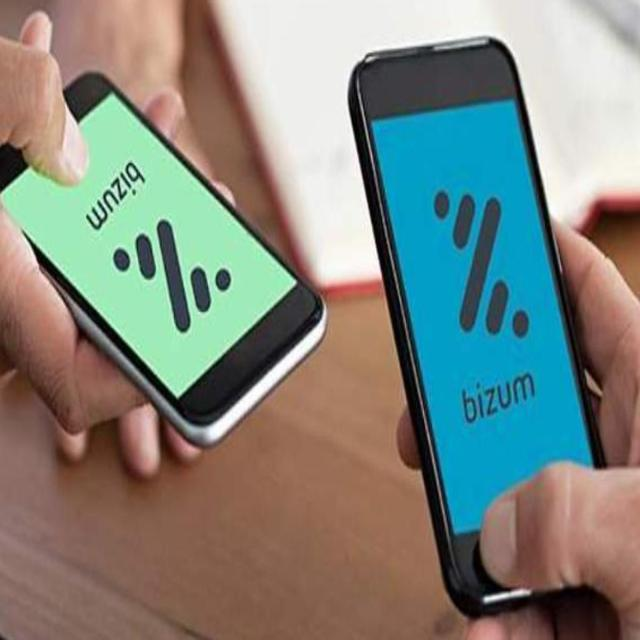bizum: (433, 191, 530, 339), (112, 217, 232, 331)
bizum_txt: (86, 160, 146, 233), (461, 374, 542, 423)
